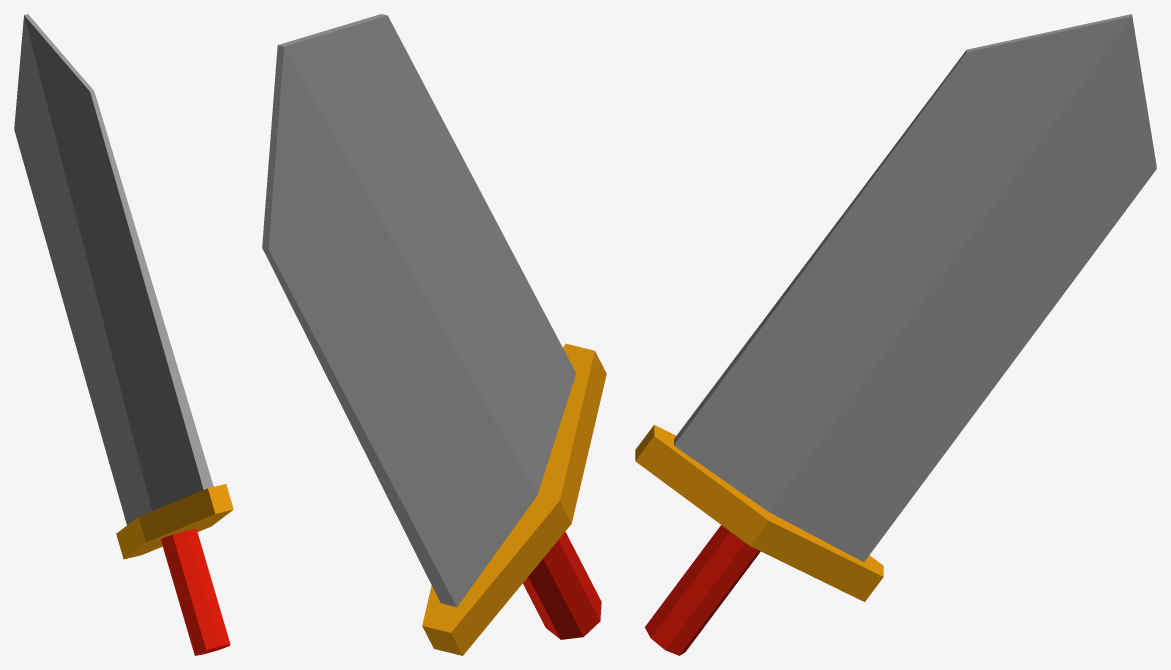
File: Sword.fbx
3 renders of one model, left to right at view 1: azimuth 30°, elevation 25°; view 2: azimuth 150°, elevation 25°; view 3: azimuth 270°, elevation 25°, orthographic. The views are drawn at different scales.
Visible parts, largest first — view 1: Sword; view 2: Sword; view 3: Sword.
Part boxes in pixels (x1,y1,x2,y2): Sword: (14, 14, 233, 655); Sword: (262, 14, 606, 655); Sword: (635, 14, 1156, 655).
Bounding box in the file's own units: 7.07 × 52.66 × 39.07.
